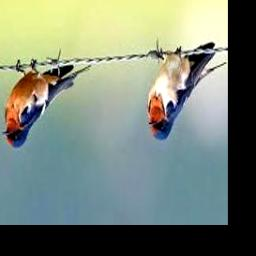Swallow: (0, 61, 91, 149), (146, 43, 226, 141)
